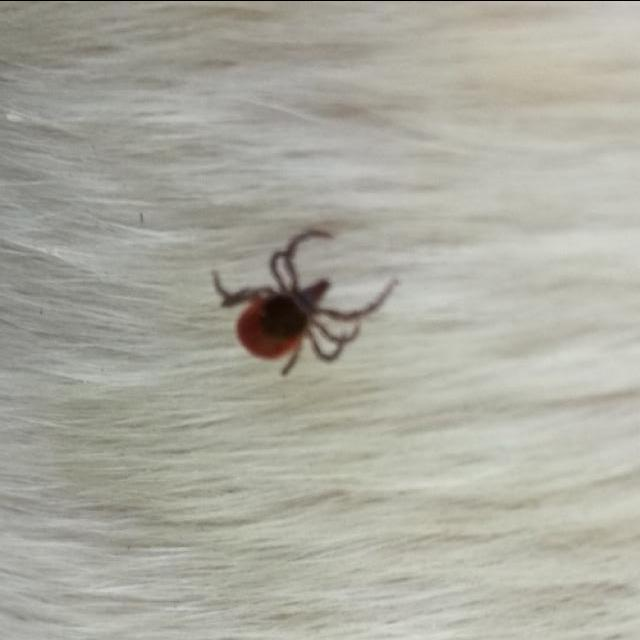Ixodes Ricinus-F: (218, 225, 394, 377)
